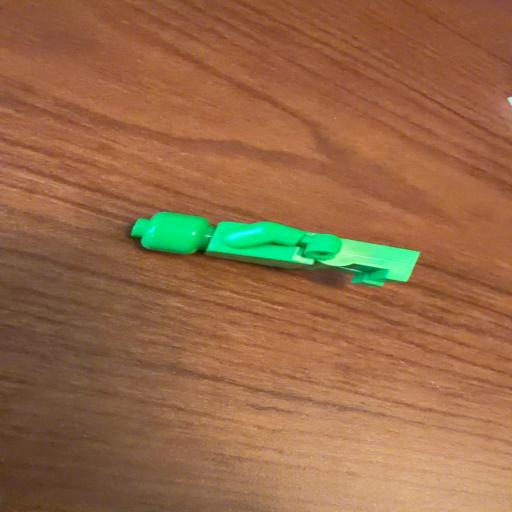UnoQ-minifig-detector: (131, 212, 420, 286)
